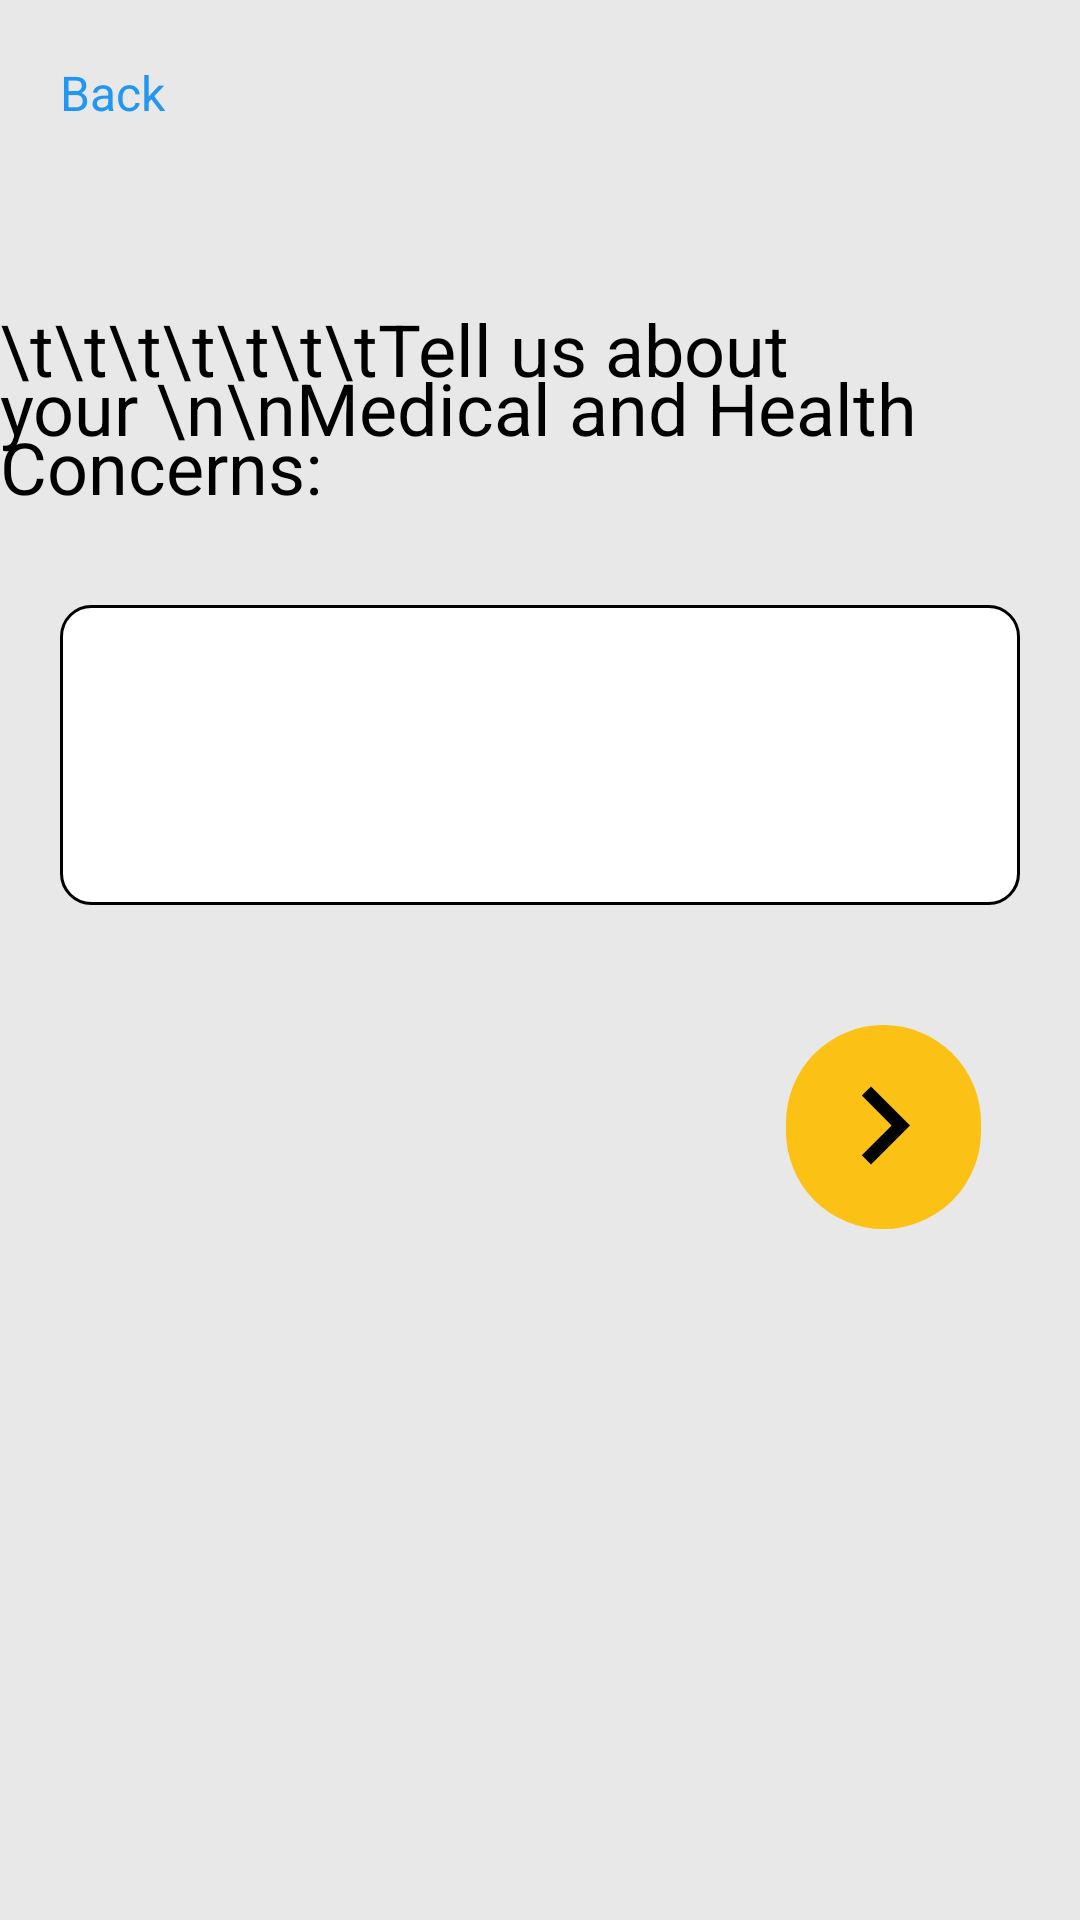

Screen size 1080w x 1920h. Icon name, then its box in pixels as (x1, y1, x2, y2):
Next button: (786, 1025, 981, 1229)
